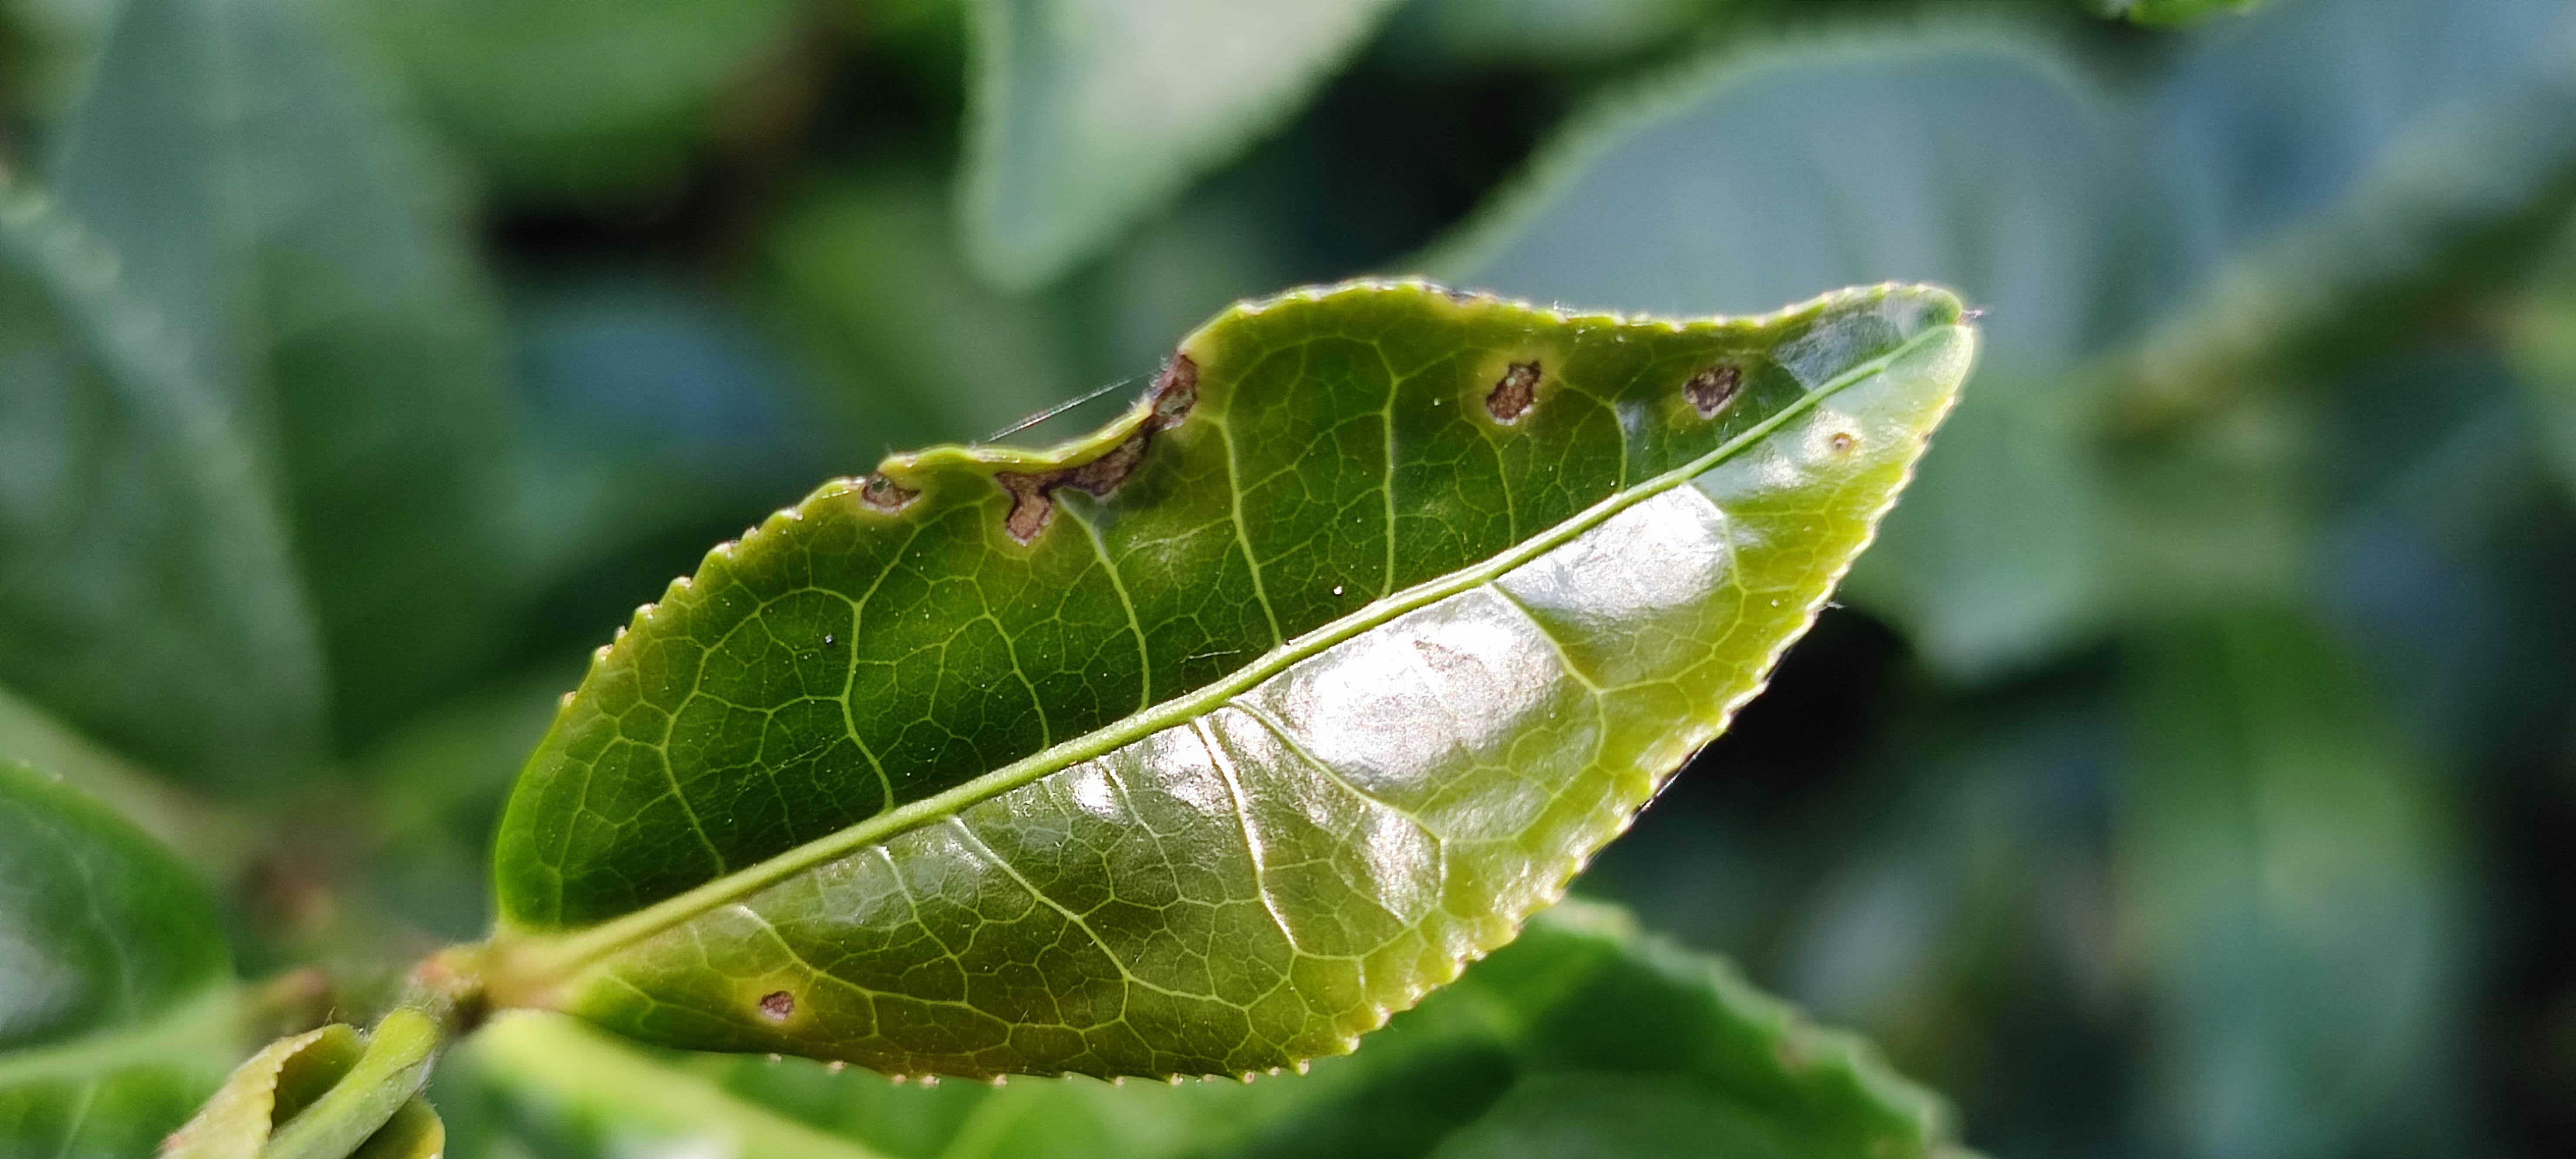tanju_high: (475, 274, 1994, 1077)
